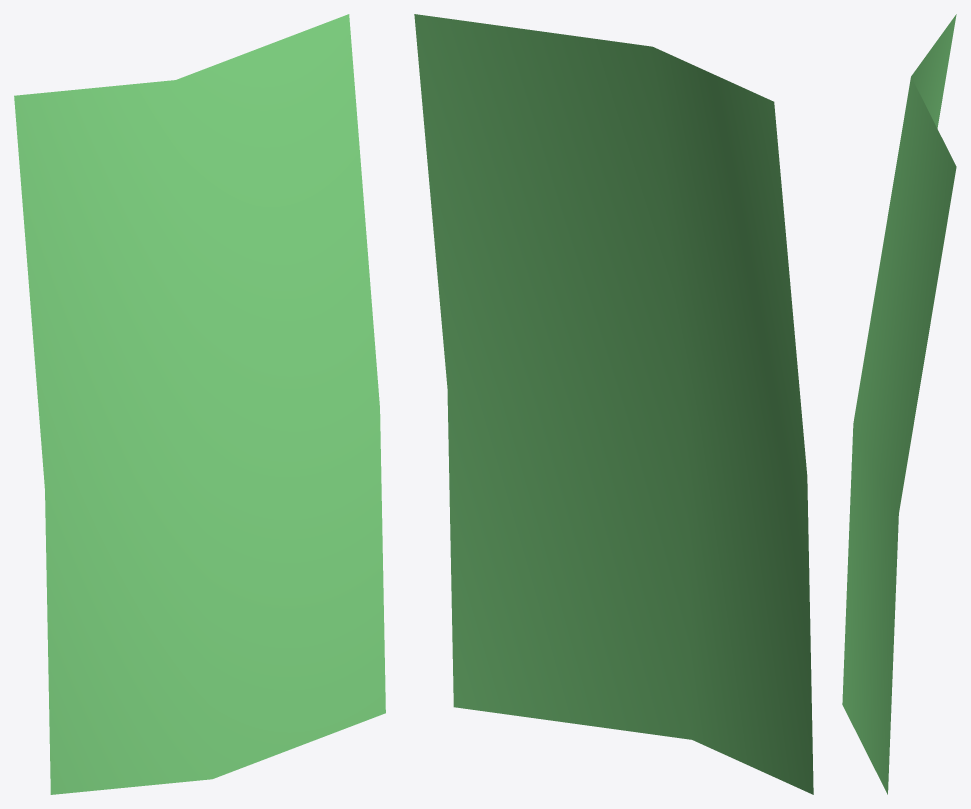
The model's file is GrassPlane_a_TwoS_01.fbx.
3 renders of one model, left to right at view 1: azimuth 30°, elevation 25°; view 2: azimuth 150°, elevation 25°; view 3: azimuth 270°, elevation 25°, orthographic. The views are drawn at different scales.
Visible parts, largest first — view 1: GrassPlane_a_TwoS_01; view 2: GrassPlane_a_TwoS_01; view 3: GrassPlane_a_TwoS_01.
Part boxes in pixels (x1=…): GrassPlane_a_TwoS_01: x1=14, y1=14, x2=385, y2=794; GrassPlane_a_TwoS_01: x1=414, y1=14, x2=813, y2=794; GrassPlane_a_TwoS_01: x1=842, y1=14, x2=956, y2=794.
Bounding box in the file's own units: 28.86 × 55.33 × 9.11.
